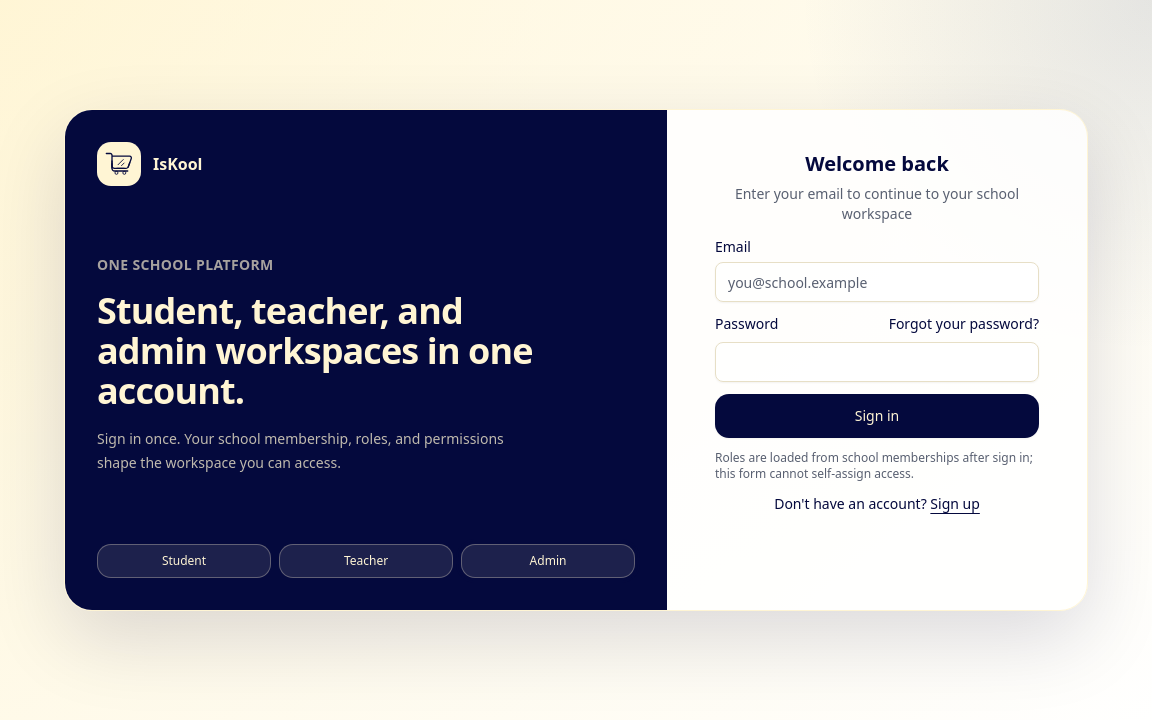
Test: local development account selection › fills Admin without authenticating or moving focus
The image size is (1152, 720).
Step 1. Click the button "Admin" → (548, 561), box [461, 544, 635, 578]
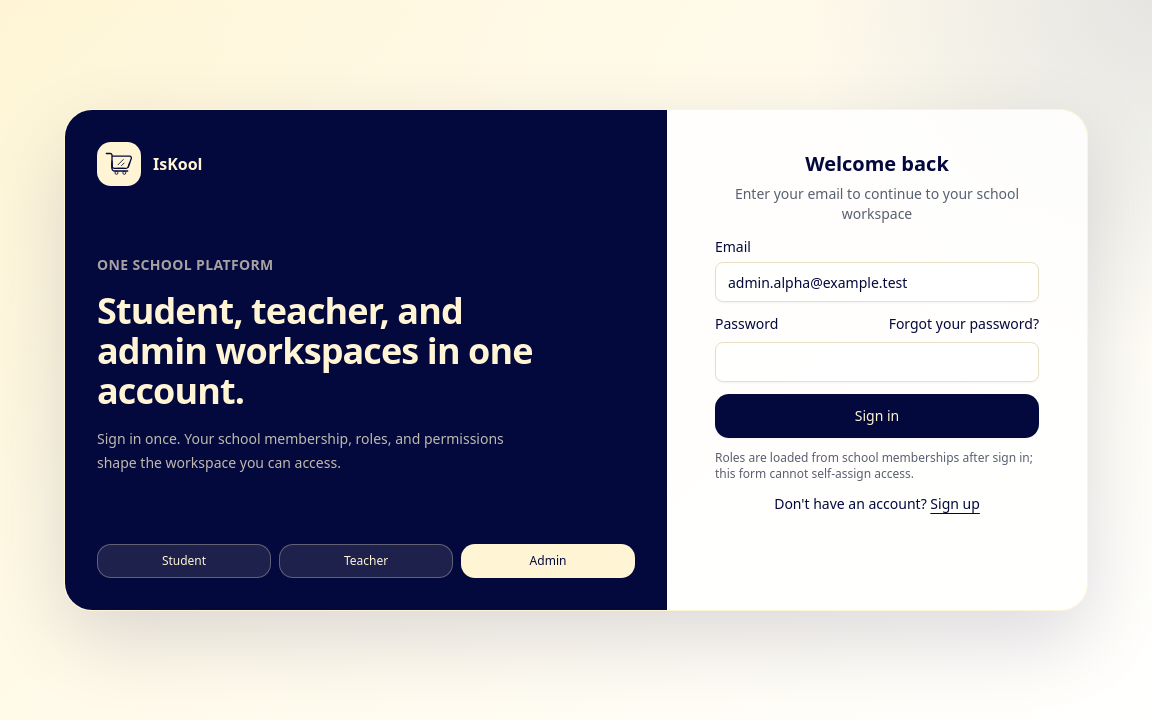
Now the field labelled "Email" holds "admin.alpha@example.test", box [715, 262, 1039, 302]
